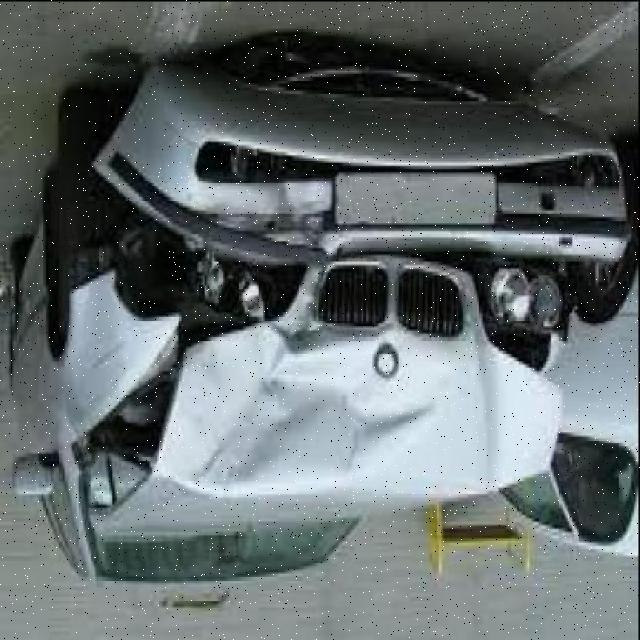damage: (69, 105, 583, 507)
